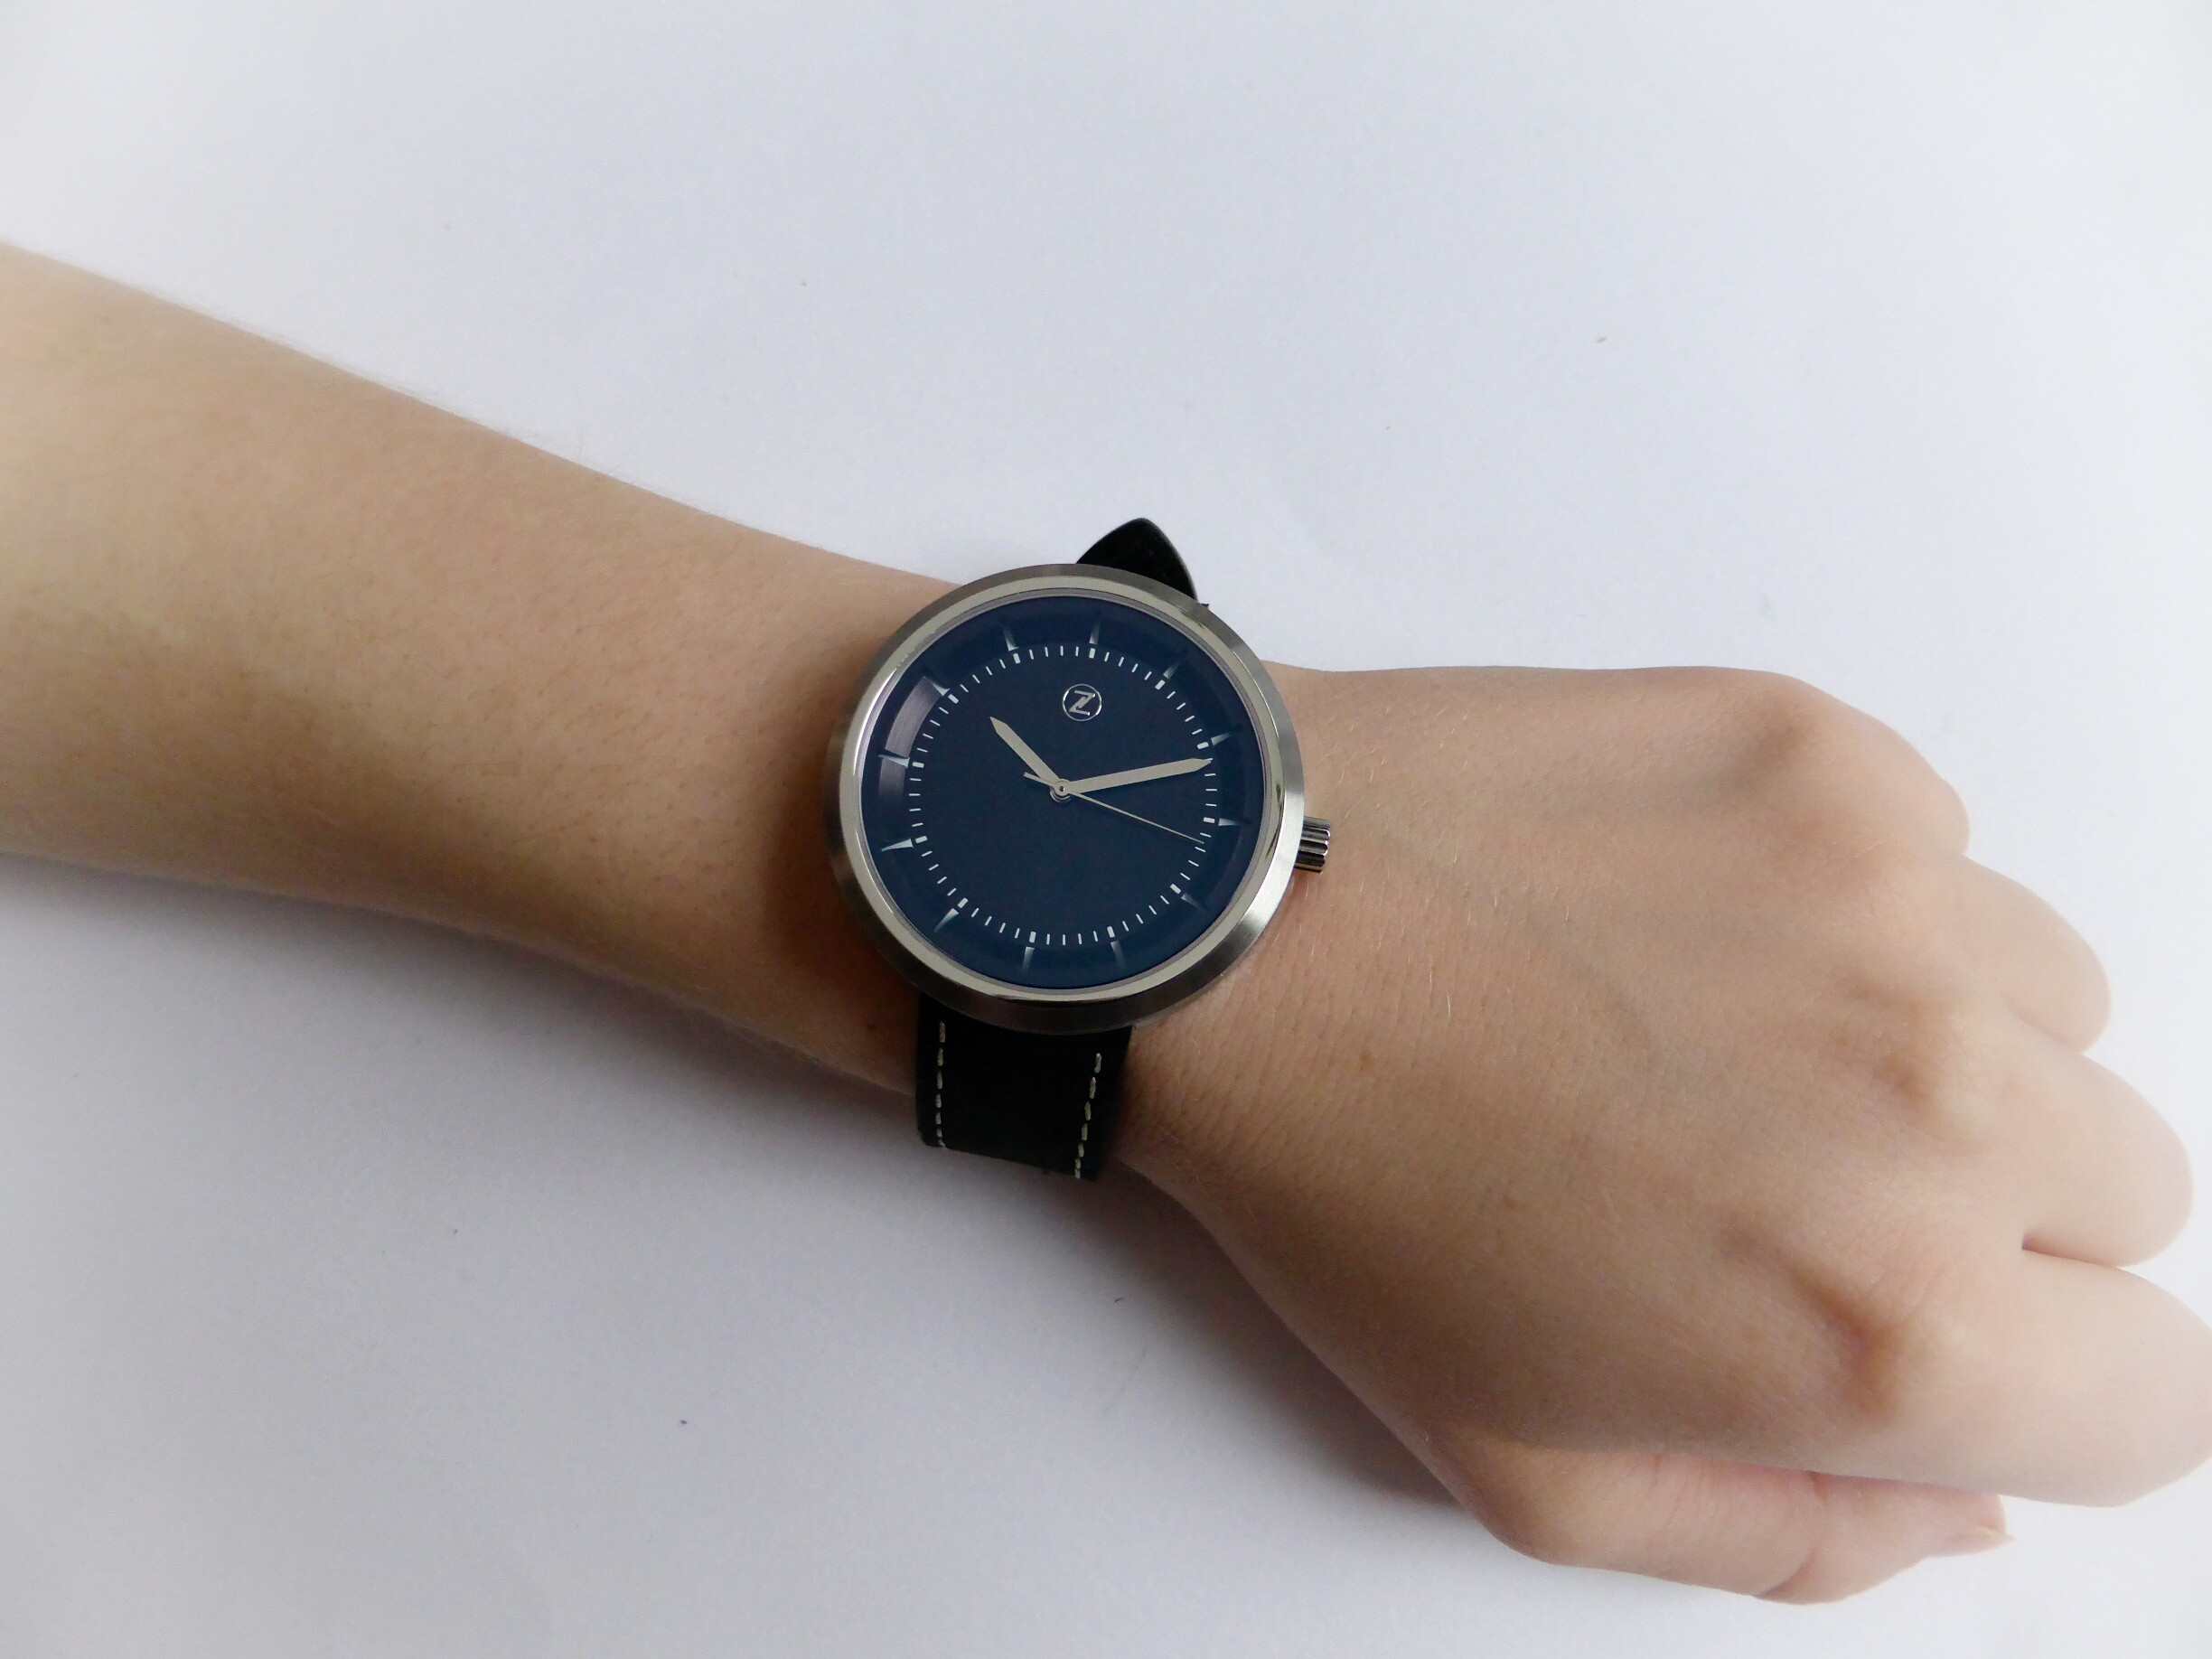clock: (859, 573, 1289, 1007)
